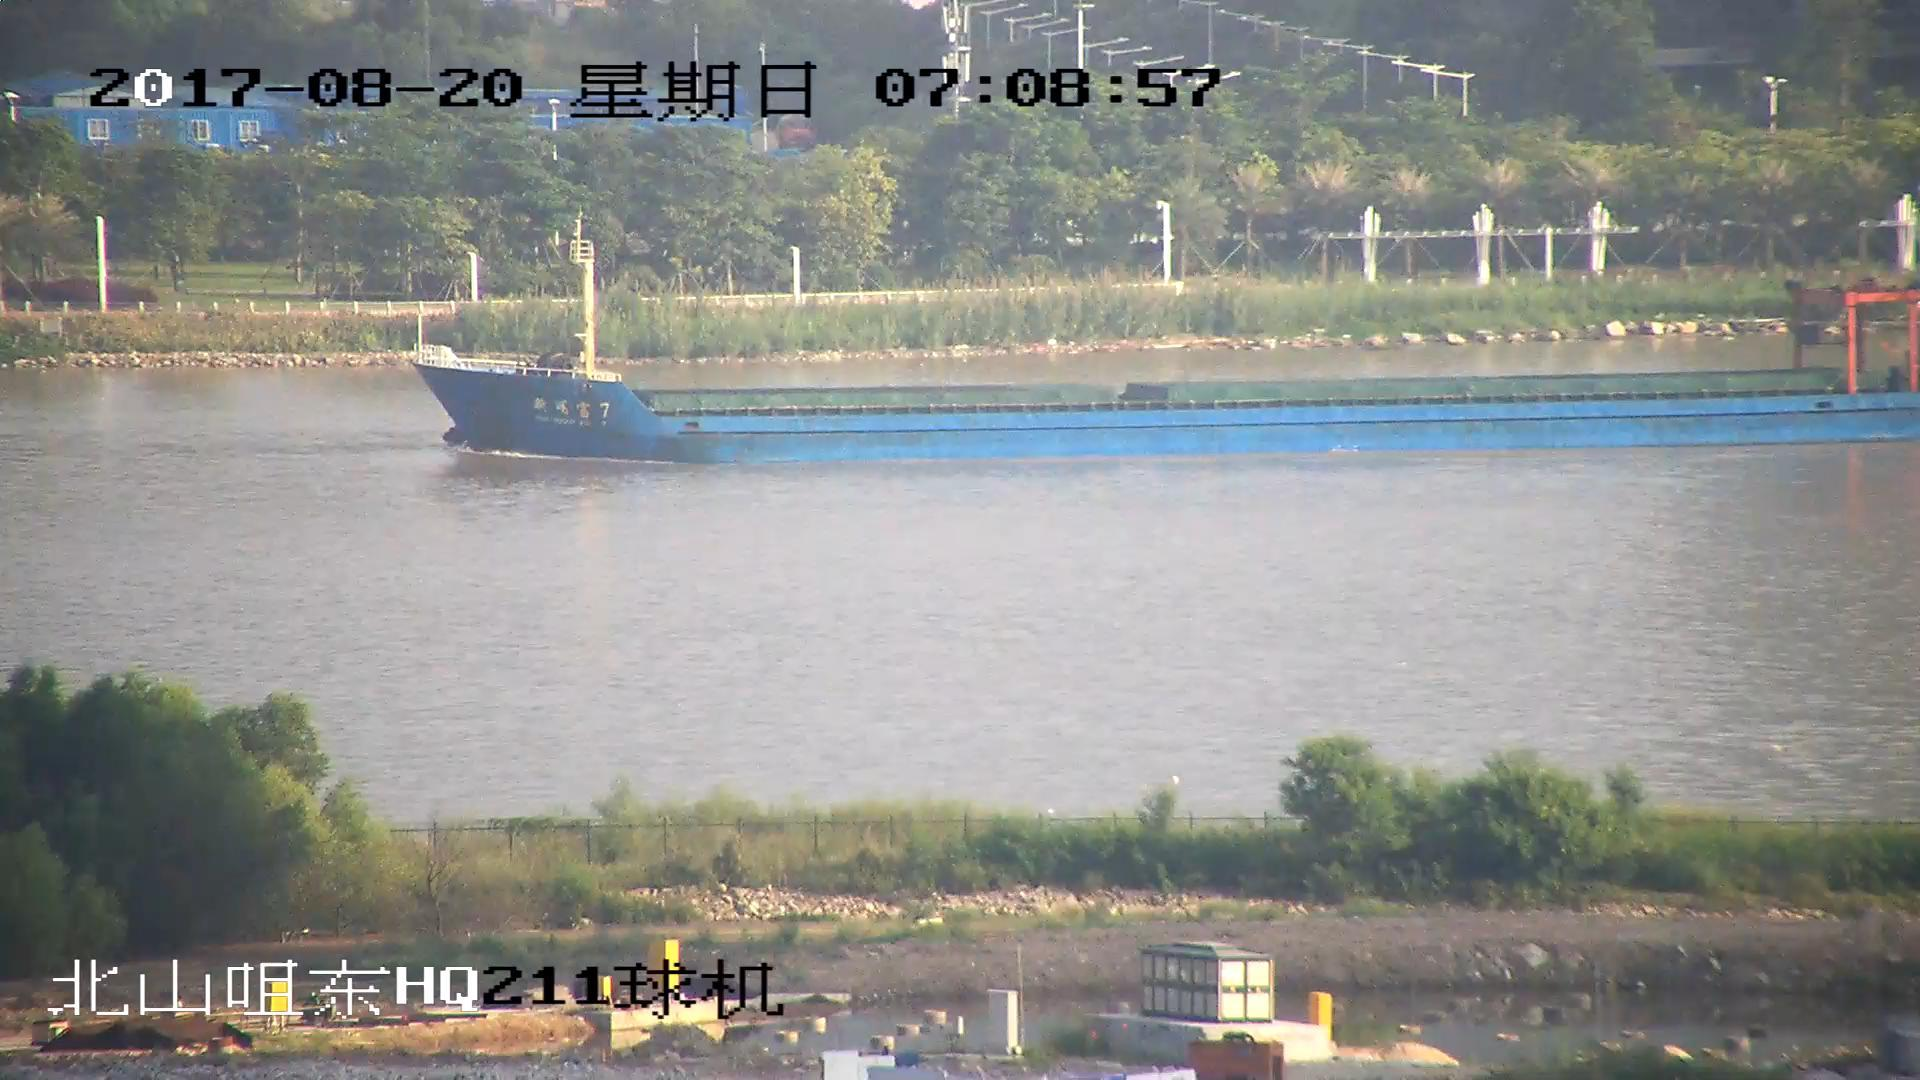Ship: (415, 229, 1920, 464)
